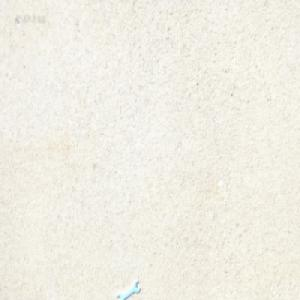Wrench: (116, 279, 140, 299)
